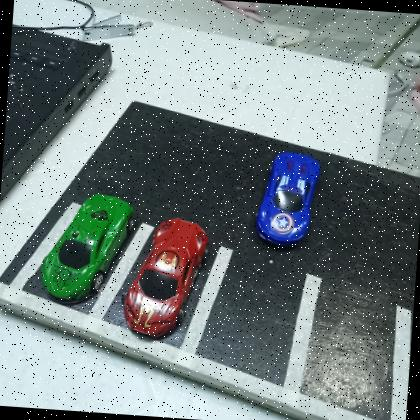Car: (120, 212, 214, 342), (39, 189, 138, 306), (252, 148, 324, 250)
